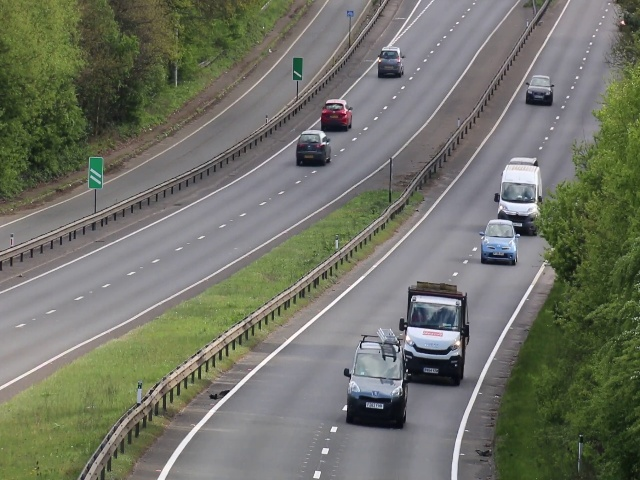car: (344, 347, 406, 428), (406, 300, 461, 379), (496, 161, 538, 222), (480, 218, 518, 265), (296, 128, 332, 167), (320, 97, 354, 131), (525, 73, 554, 107), (377, 46, 404, 80)
